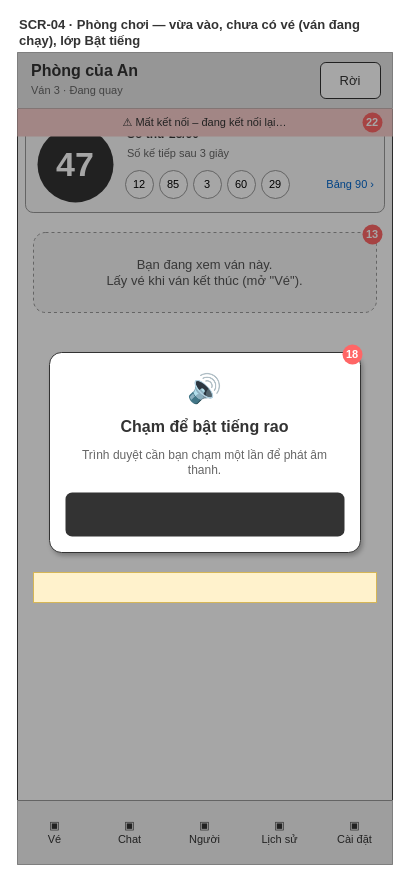
The diagram is 410 pixels wide and 882 high, and some of its shapes have lost their labels. The shapes that lost their labels are listed below. From the top down, each one's centre as x and y in pixels, then its label:
(204,514): Bật tiếng
(204,587): KINH (14) không hiện vì người xem không có vé tham gia ván.
